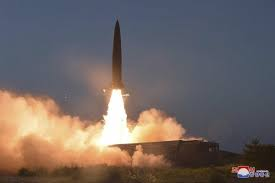ten_lua: (106, 12, 130, 127)
